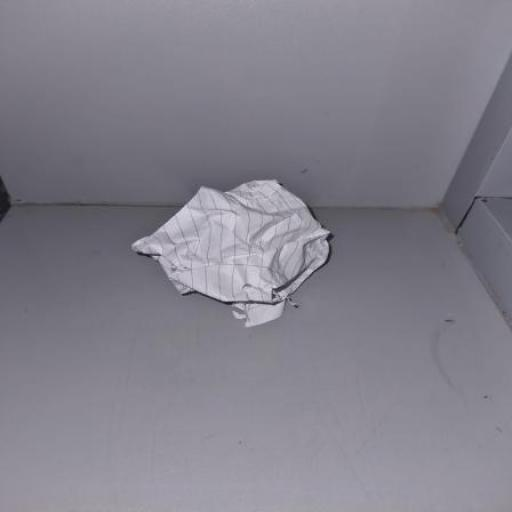paper: (130, 174, 332, 328)
